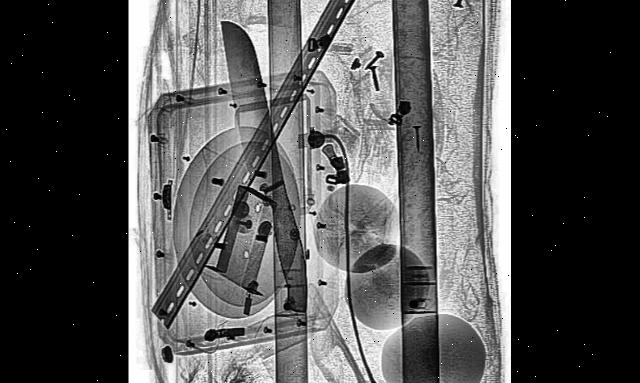Knife: (213, 5, 320, 332)
